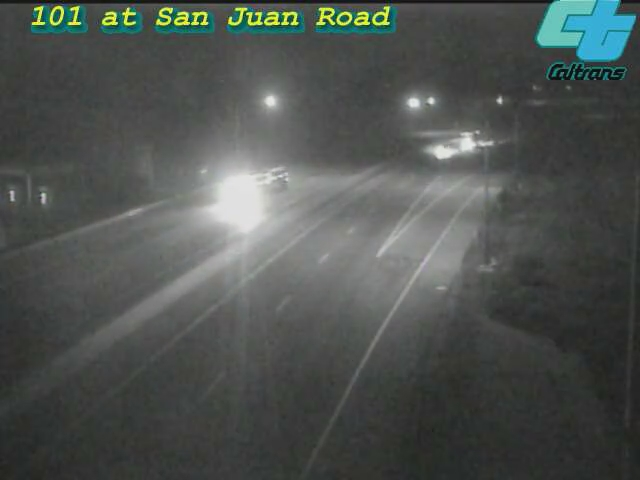vehicle: (207, 146, 287, 226), (446, 115, 496, 165), (418, 127, 468, 177)
